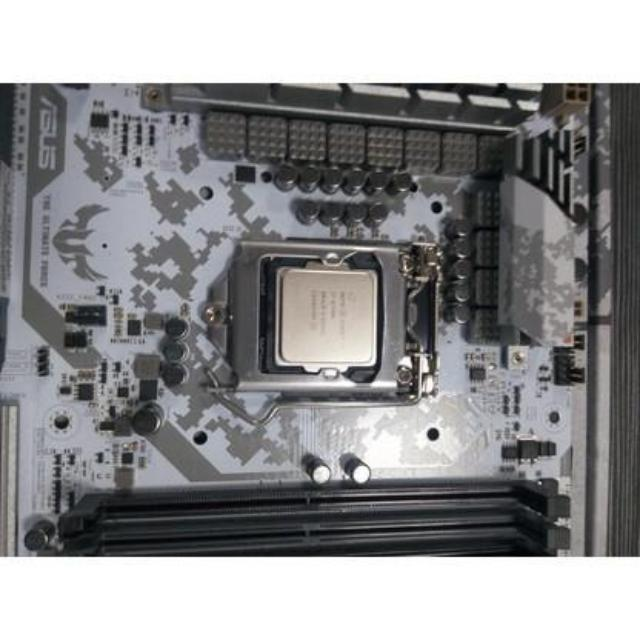CPU: (260, 256, 385, 381)
